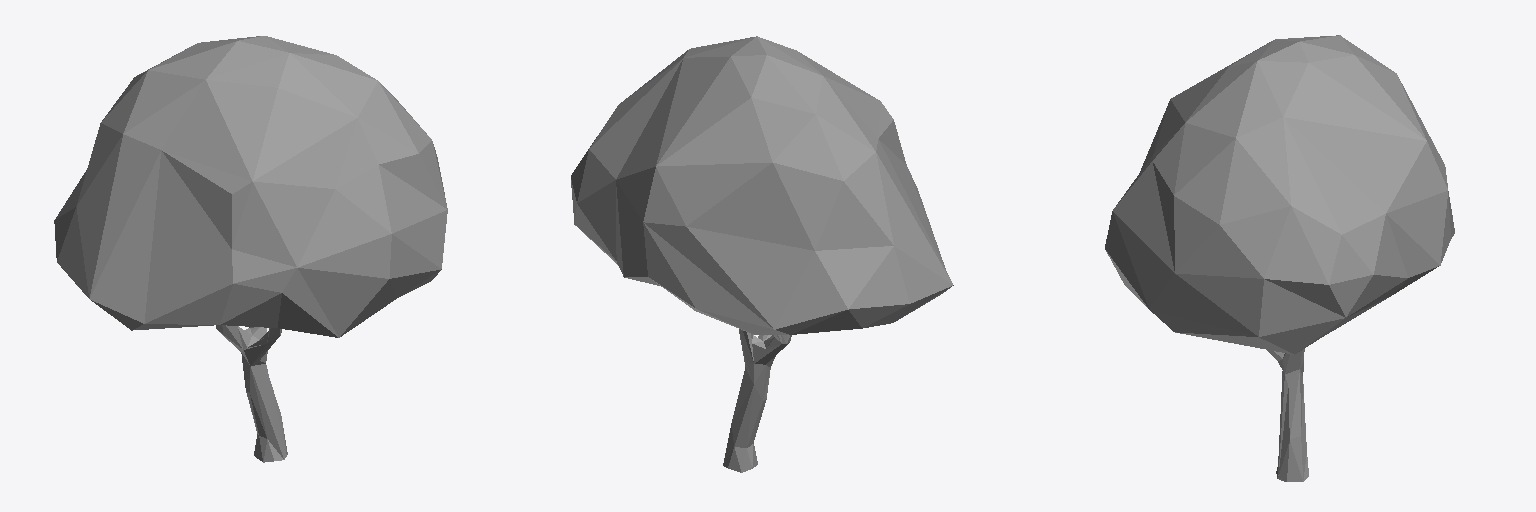
File: tree-round.obj
3 views of the same model, side by side, from view 1: azimuth 30°, elevation 25°; view 2: azimuth 150°, elevation 25°; view 3: azimuth 270°, elevation 25° (orthographic).
Parts seen in each view (by area): view 1: leaves_Icosphere.002, trunk_Cube; view 2: leaves_Icosphere.002, trunk_Cube; view 3: leaves_Icosphere.002, trunk_Cube.
Part boxes in pixels (x1,y1,x2,y2): leaves_Icosphere.002: (54,36,447,337); trunk_Cube: (216,325,287,462); leaves_Icosphere.002: (571,36,953,334); trunk_Cube: (723,329,791,472); leaves_Icosphere.002: (1105,35,1454,354); trunk_Cube: (1267,349,1308,481).
Bounding box in the file's own units: 7.01 × 7.99 × 6.04.